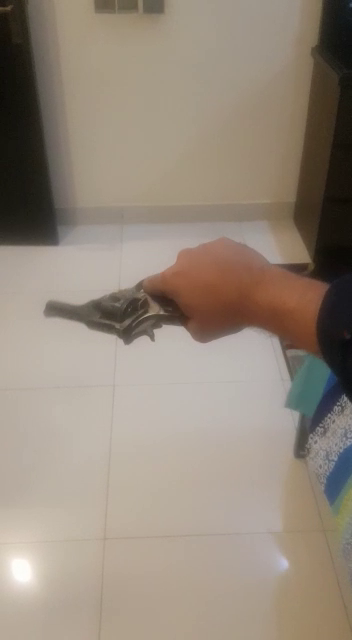handgun: (35, 277, 213, 357)
